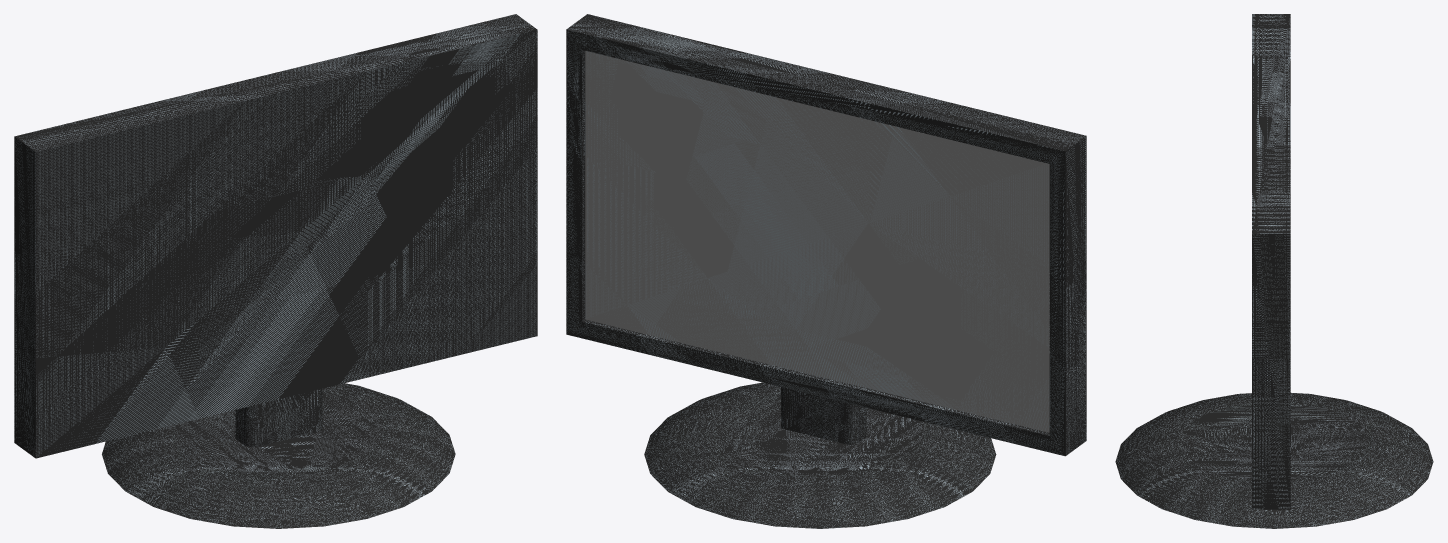
Rendered from _monitor.dae.
The picture shows the model from 3 angles, left to right: view 1: azimuth 30°, elevation 25°; view 2: azimuth 150°, elevation 25°; view 3: azimuth 270°, elevation 25°; orthographic projection. The views are drawn at different scales.
Visible parts, largest first — view 1: SketchUp (×3); view 2: SketchUp (×5); view 3: SketchUp (×2).
Boxes of the visible parts, box(x1,y1,x2,y2) form: SketchUp (×3): box(14, 14, 537, 528); SketchUp (×5): box(566, 14, 1086, 528); SketchUp (×2): box(1115, 14, 1433, 528).
Size of the model in its own units: 22.17 by 13.54 by 15.77.
